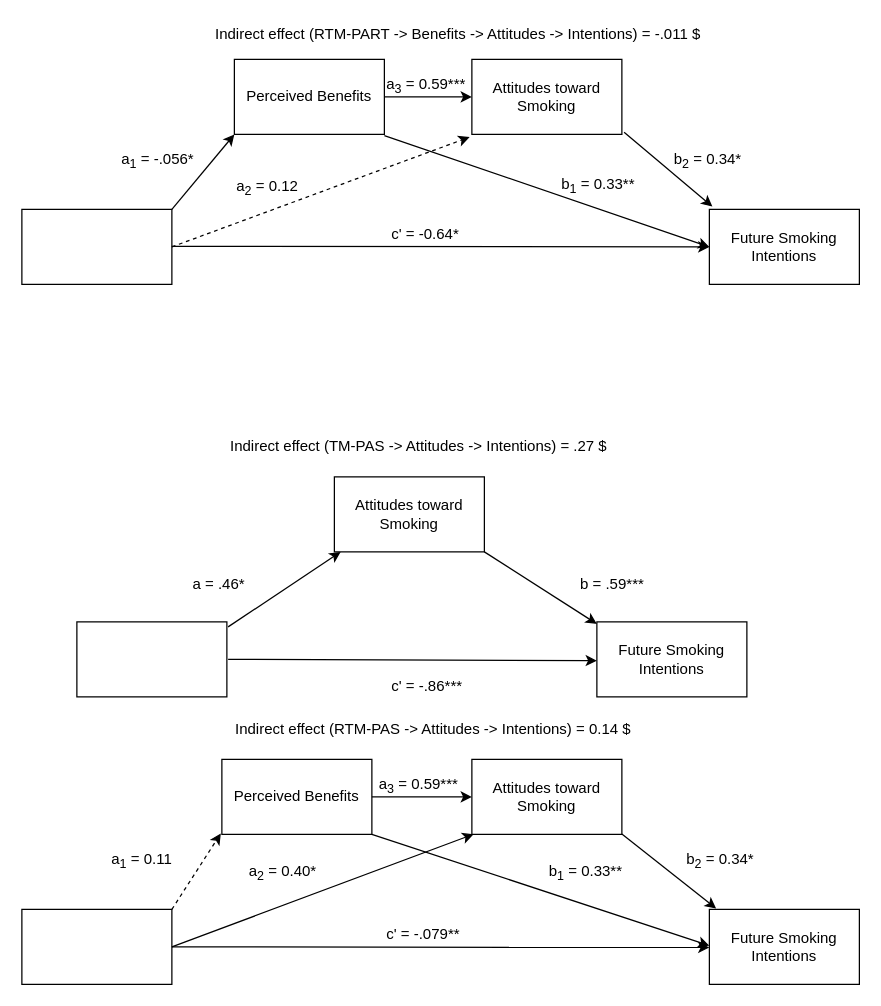
Some shapes in this 881 by 1006 pixel diagram are drawn without their labels. Here are the shapes that lost their labels. From the top down, the box of each, then its label:
(21, 208, 172, 284): RTM-PART vs. OM
(76, 621, 227, 697): TM-PAS
(21, 908, 172, 984): RTM-PAS vs. OM
